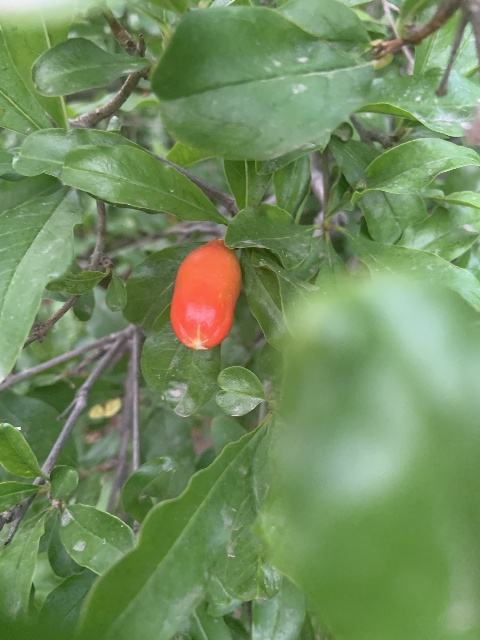bud: (170, 238, 241, 350)
